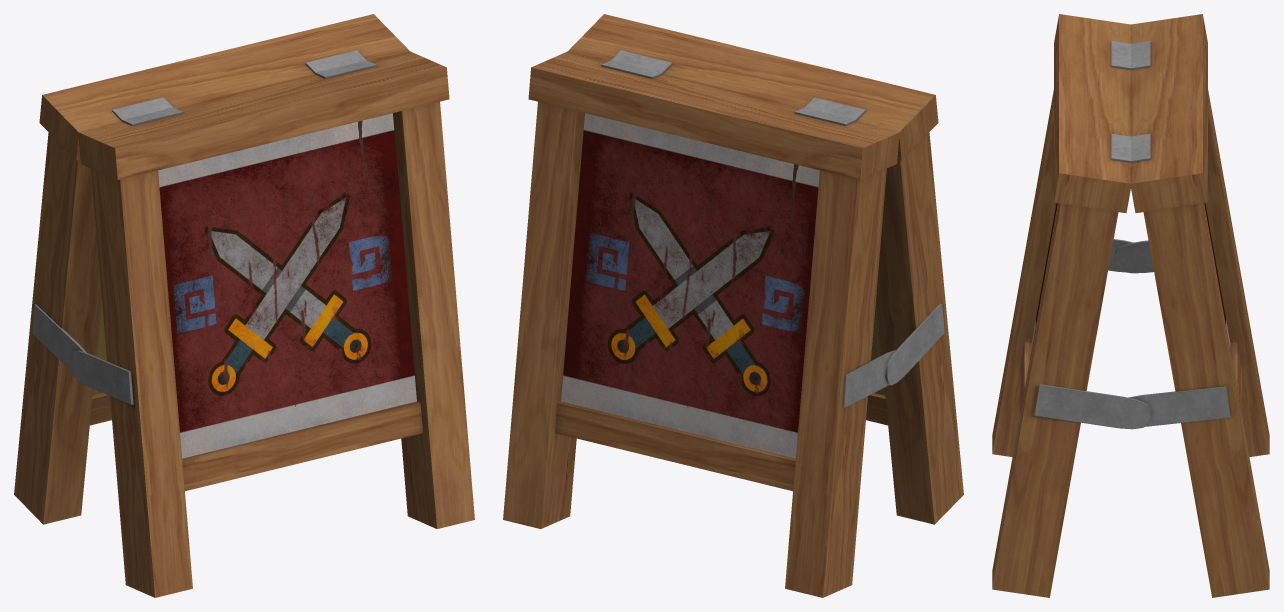
The model's file is sb_obj_outdoor_SignBoard04.fbx.
3 renders of one model, left to right at view 1: azimuth 30°, elevation 25°; view 2: azimuth 150°, elevation 25°; view 3: azimuth 270°, elevation 25°, orthographic.
Parts seen in each view (by area): view 1: 04; view 2: 04; view 3: 04.
Part boxes in pixels (bbox=[...]): 04: bbox=[14, 14, 474, 597]; 04: bbox=[503, 14, 963, 597]; 04: bbox=[992, 14, 1269, 597].
Size of the model in its own units: 0.718 by 0.8991 by 0.529.
